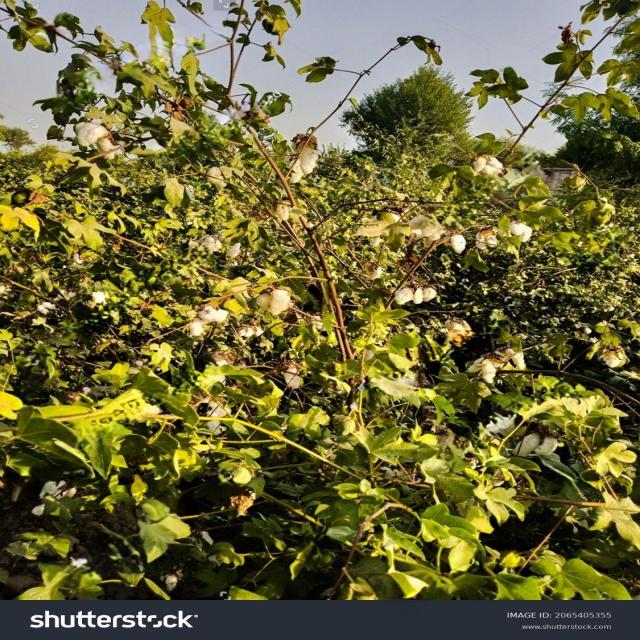Leaf: (244, 284, 294, 320), (284, 132, 316, 187), (465, 351, 510, 386), (387, 282, 439, 302), (70, 118, 105, 146), (472, 152, 507, 177), (505, 214, 534, 244), (195, 300, 231, 324), (443, 230, 467, 252)
